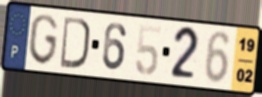2: (167, 25, 203, 83)
5: (134, 23, 163, 77)
6: (202, 28, 233, 87), (102, 22, 127, 73)
D: (59, 14, 91, 71)
G: (27, 13, 60, 68)
